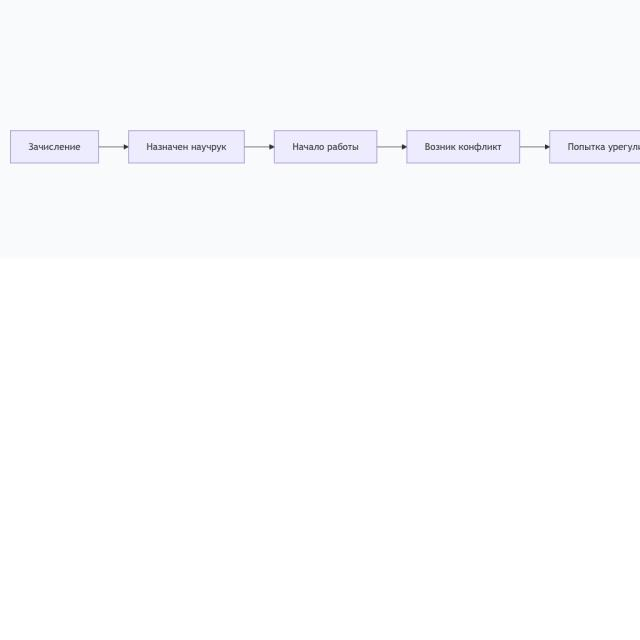arrow: (520, 145, 549, 150), (100, 145, 128, 150), (245, 145, 274, 149), (378, 145, 406, 149)
rectangle: (128, 130, 245, 164), (407, 130, 519, 163), (274, 130, 377, 163), (10, 130, 99, 164)
